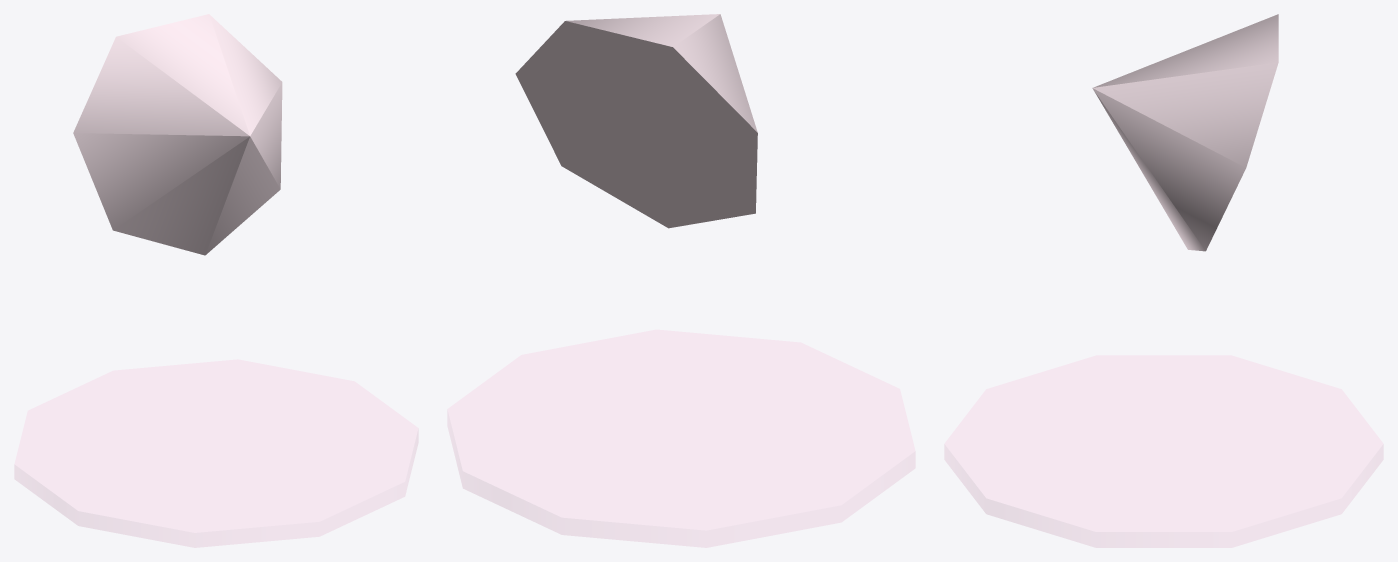
The model's file is shell.glb.
3 renders of one model, left to right at view 1: azimuth 30°, elevation 25°; view 2: azimuth 150°, elevation 25°; view 3: azimuth 270°, elevation 25°, orthographic. The views are drawn at different scales.
Size of the model in its own units: 0.9511 by 1.06 by 1.
